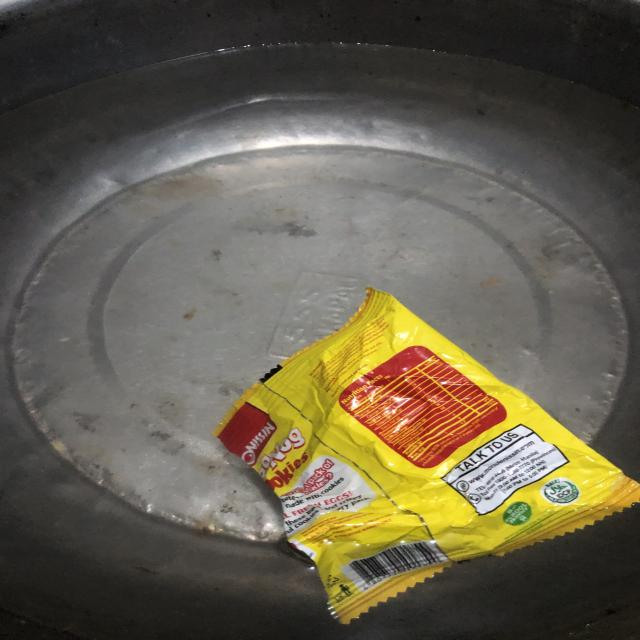Plastic Wrapper: (216, 288, 640, 622)
